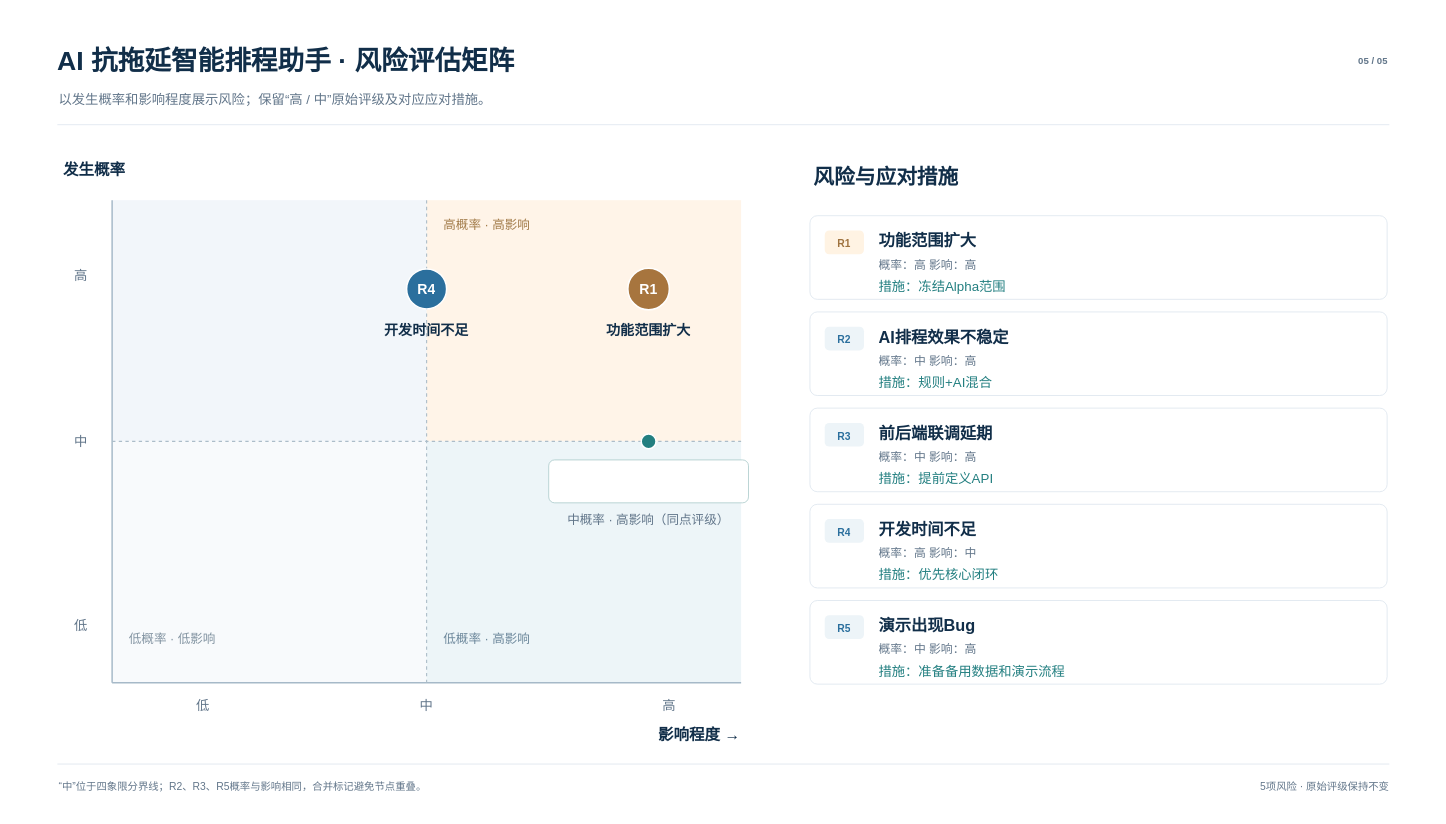
The diagram is 1446 pixels wide and 824 high, and some of its shapes have lost their labels. Each missing label, with the centre of its shape:
"R2 / R3 / R5" goes at [648,481].
"高概率 · 低影响" goes at [269,320].
